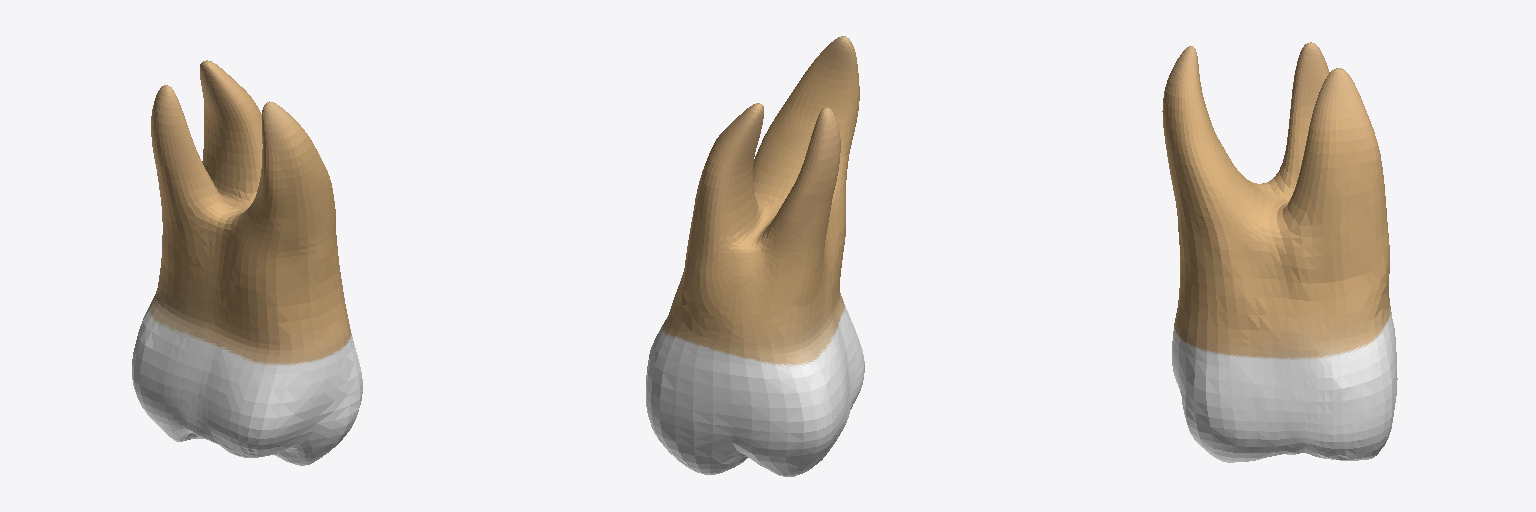
3 views of the same model, side by side, from view 1: azimuth 30°, elevation 25°; view 2: azimuth 150°, elevation 25°; view 3: azimuth 270°, elevation 25° (orthographic).
Parts seen in each view (by area): view 1: polySurface45 group6_polySurface9; view 2: polySurface45 group6_polySurface9; view 3: polySurface45 group6_polySurface9.
Boxes of the visible parts, x1,y1,x2,y2 form: polySurface45 group6_polySurface9: [132, 60, 362, 465]; polySurface45 group6_polySurface9: [646, 36, 864, 476]; polySurface45 group6_polySurface9: [1162, 42, 1397, 462].
Bounding box in the file's own units: 2.53 × 5.2 × 2.85.
Materials: 1 (1 with a texture image).